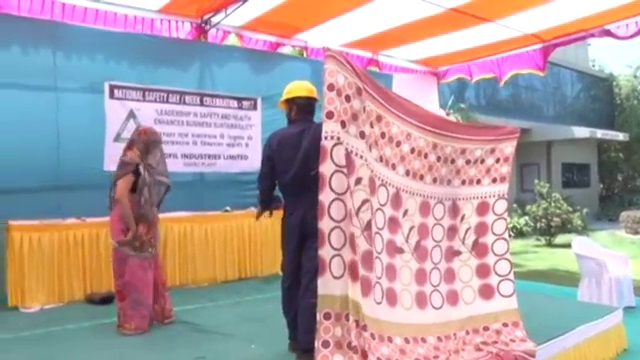helmet: (277, 80, 322, 109)
helmet_off: (130, 123, 163, 159)
helmet_on: (275, 80, 322, 132)
person: (256, 80, 320, 360), (111, 125, 178, 338)
